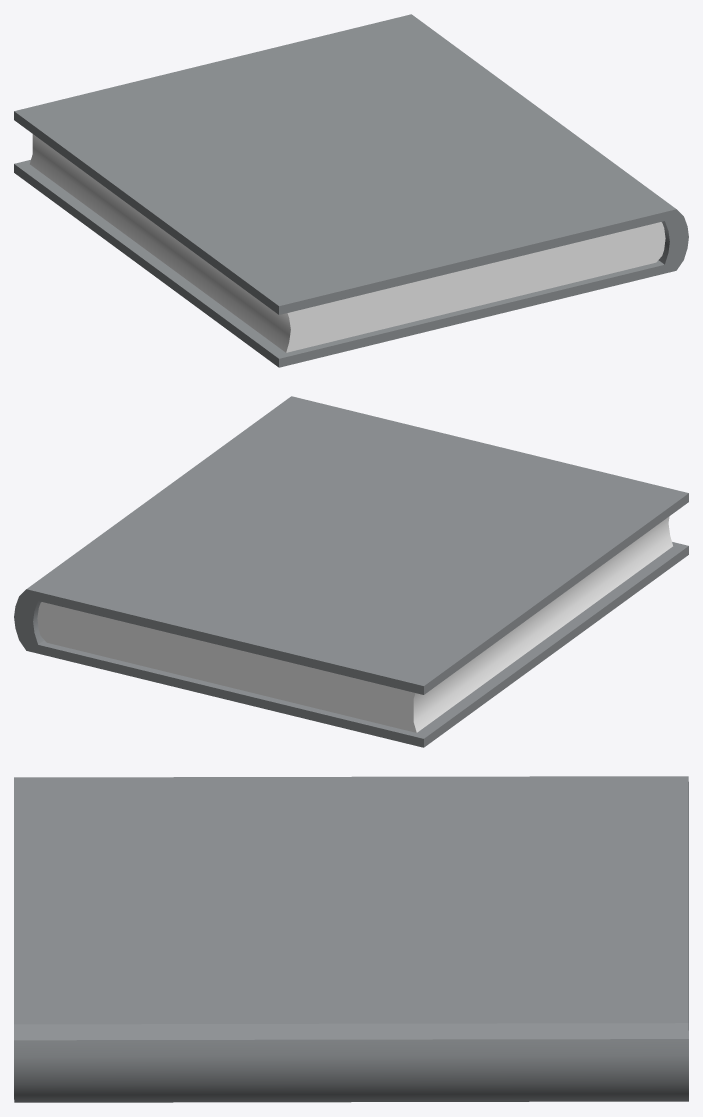
Rendered from graybook.fbx.
3 renders of one model, top to bottom at view 1: azimuth 30°, elevation 25°; view 2: azimuth 150°, elevation 25°; view 3: azimuth 270°, elevation 25°, orthographic. The views are drawn at different scales.
Visible parts, largest first — view 1: polySurface9; view 2: polySurface9; view 3: polySurface9.
Boxes of the visible parts, bbox=[...] form: polySurface9: bbox=[14, 14, 688, 367]; polySurface9: bbox=[14, 396, 688, 747]; polySurface9: bbox=[14, 776, 688, 1102].
Bounding box in the file's own units: 0.00277 × 0.000405 × 0.00311.
1 material, 1 textured.
